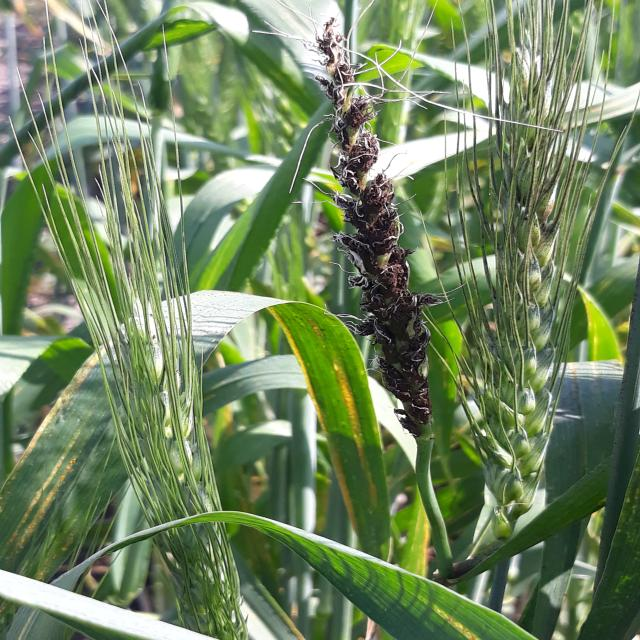loose_charred: (254, 8, 472, 454), (472, 6, 589, 420)
yellow_rust: (213, 282, 403, 564), (0, 338, 167, 621), (372, 563, 519, 640), (397, 482, 451, 597), (583, 299, 637, 375)
